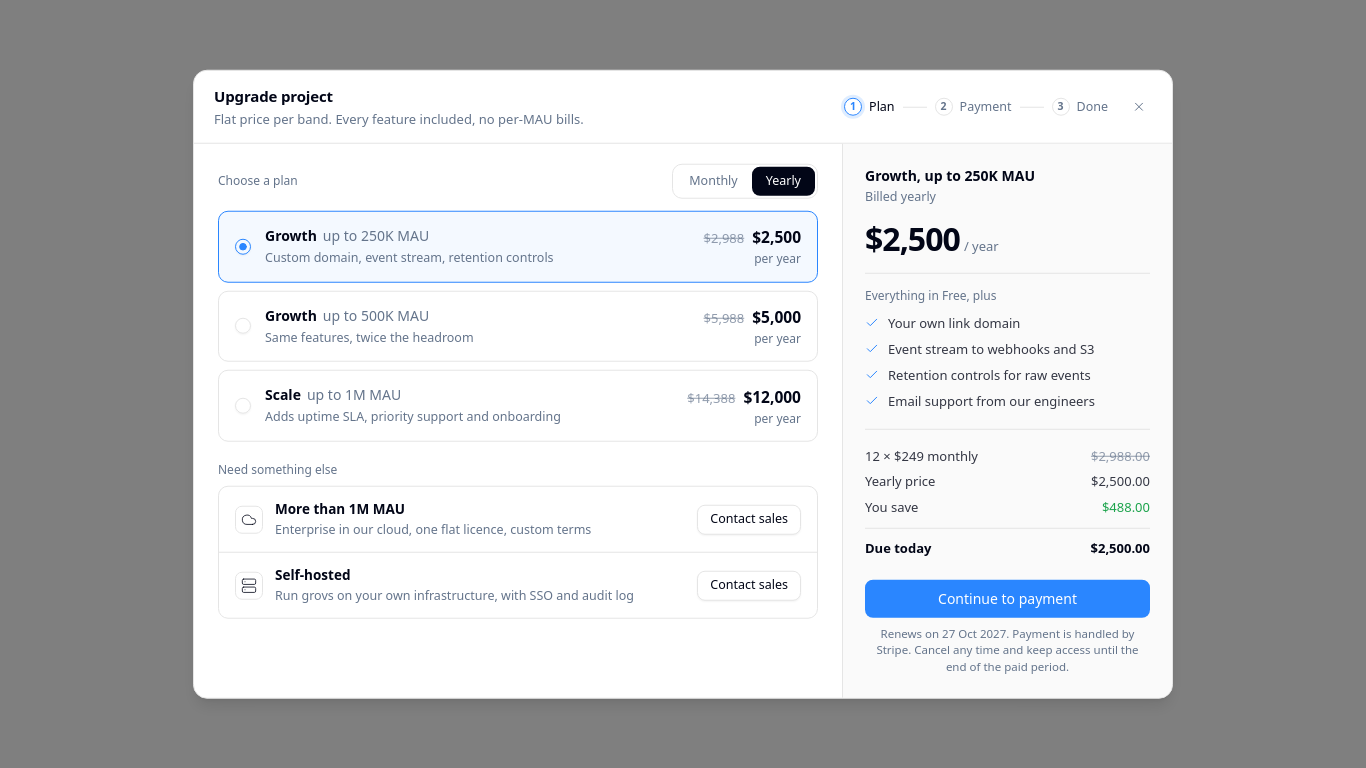
Test: ScaleUpDialog plan picker › switches the summary to Everything in Growth for Scale
Expected: the text "Everything in Free, plus" is shown, [865,286,996,304]
Expected: the list item "Your own link domain" is shown, [865,314,1020,332]
Click the radio button named "Scale" next to "Scale" at (243, 406), box [235,398,251,414]
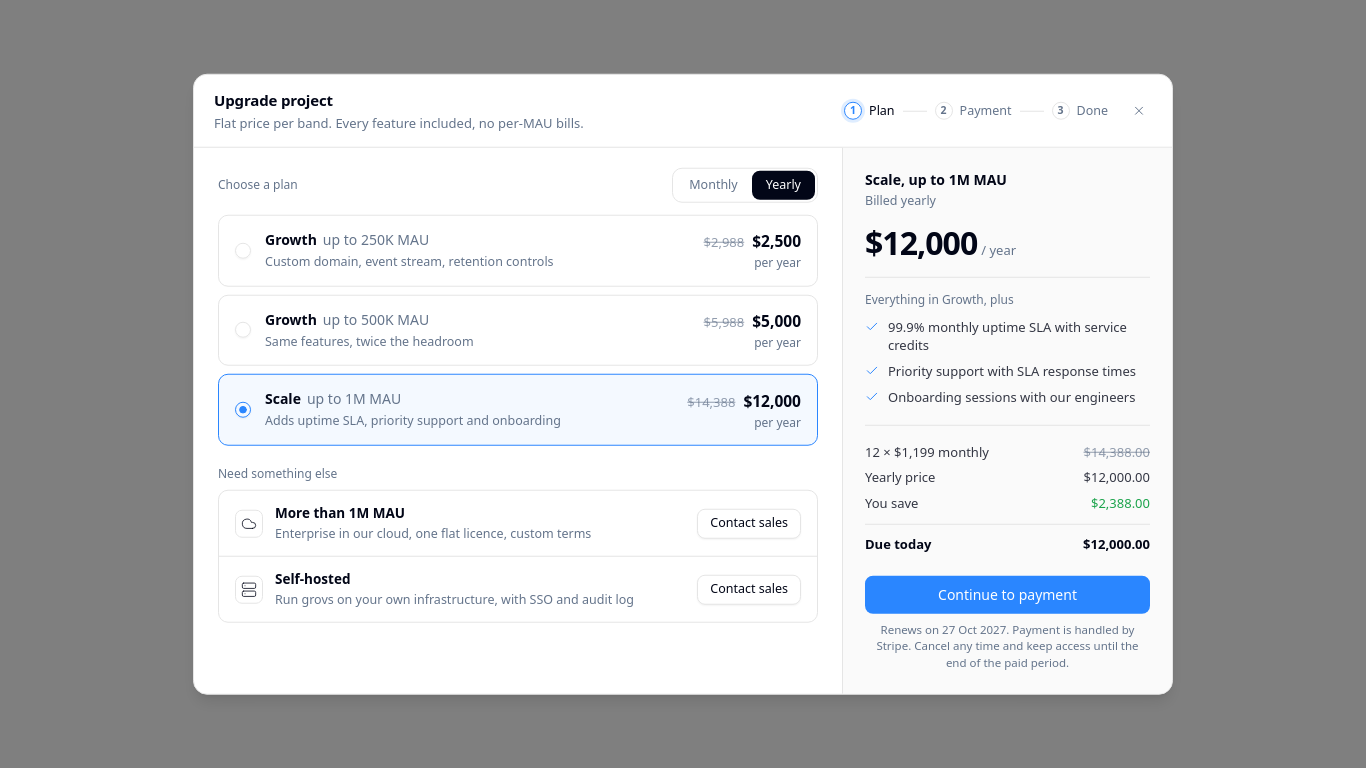
Expected: the text "Everything in Growth, plus" is shown, [865,290,1014,308]
Expected: the heading "Scale, up to 1M MAU" is shown, [865,170,1007,190]
Expected: the list item "99.9% monthly uptime SLA with service credits" is shown, [865,318,1150,354]
